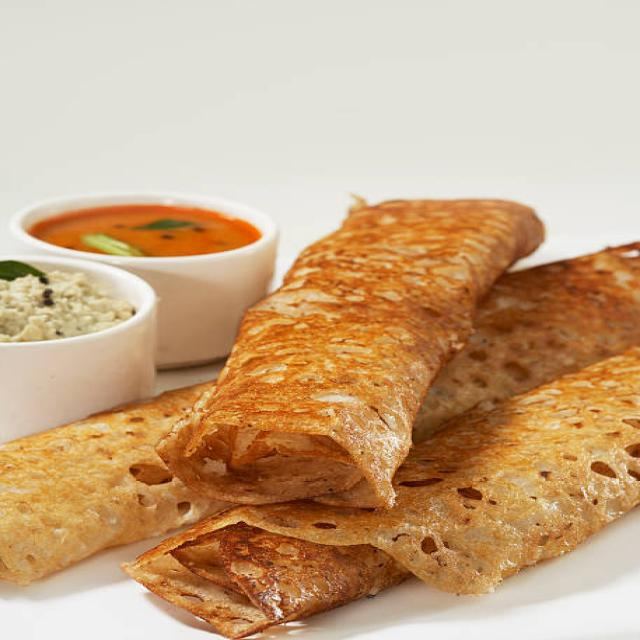DOSA: (0, 200, 639, 639)
SAMBAR: (28, 205, 260, 256)
WHITE CHUTNEY: (0, 264, 133, 342)
